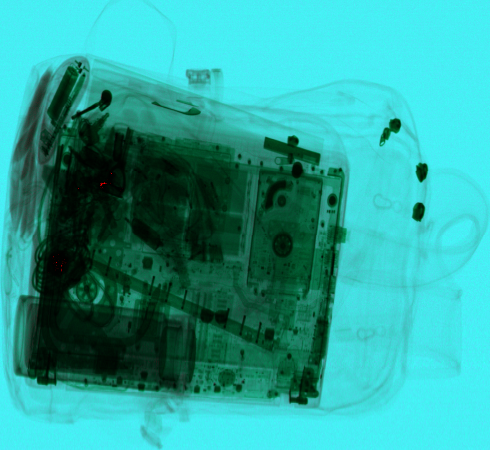Vacuum Cup: (13, 295, 196, 394)
